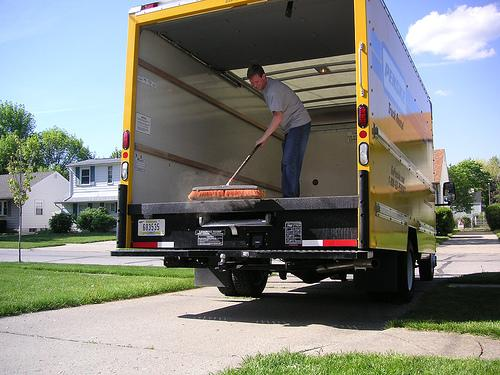truck: (110, 0, 457, 306)
